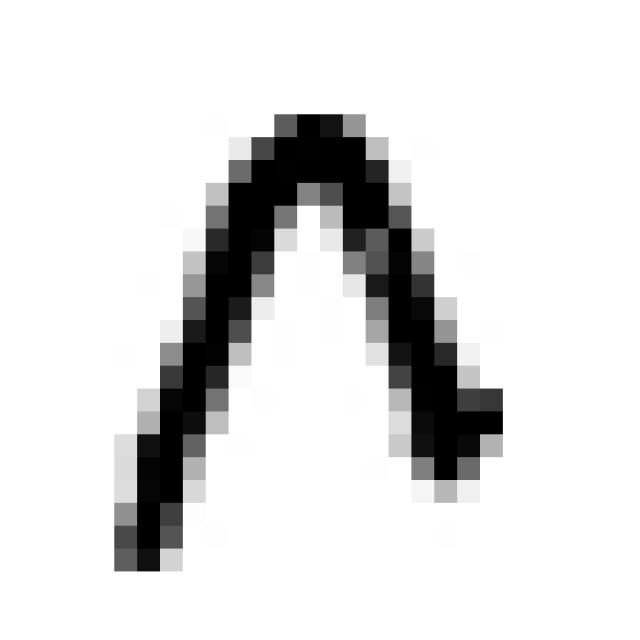8 -eight-: (94, 85, 520, 582)
